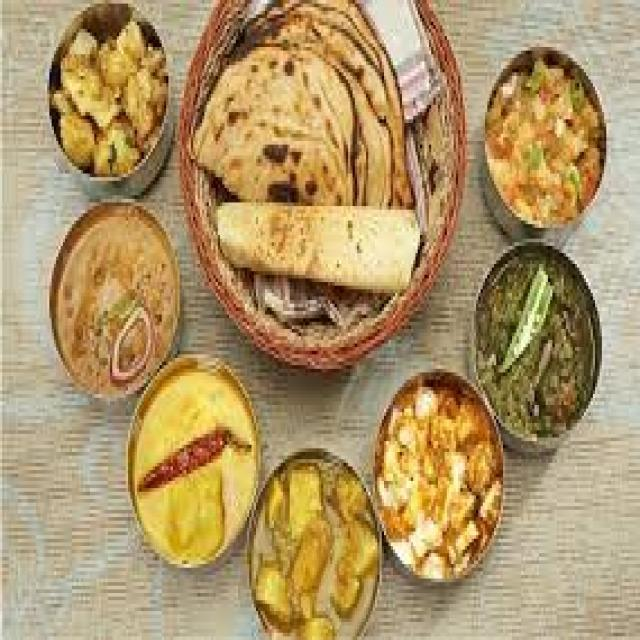rice: (206, 24, 409, 221), (482, 51, 603, 230), (222, 200, 419, 299)
roti: (218, 22, 405, 230)
sweet: (128, 373, 250, 555)
veg-fry: (472, 253, 599, 440)
